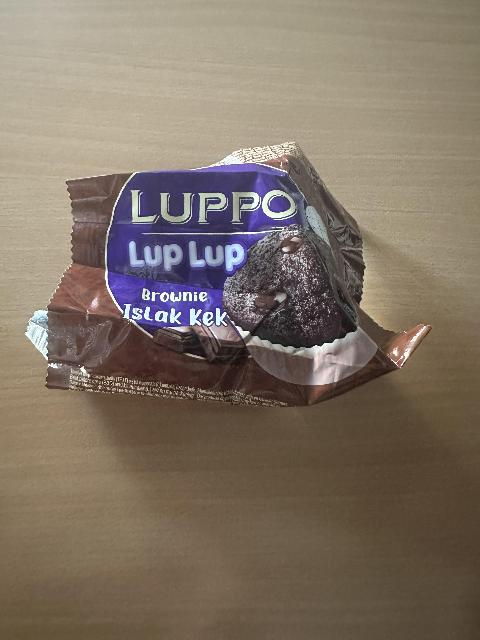Plastik: (30, 143, 433, 403)
